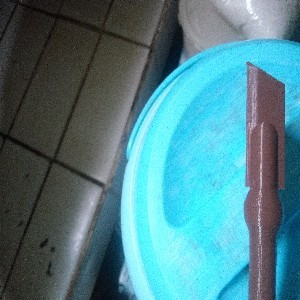cutter: (243, 60, 287, 300)
